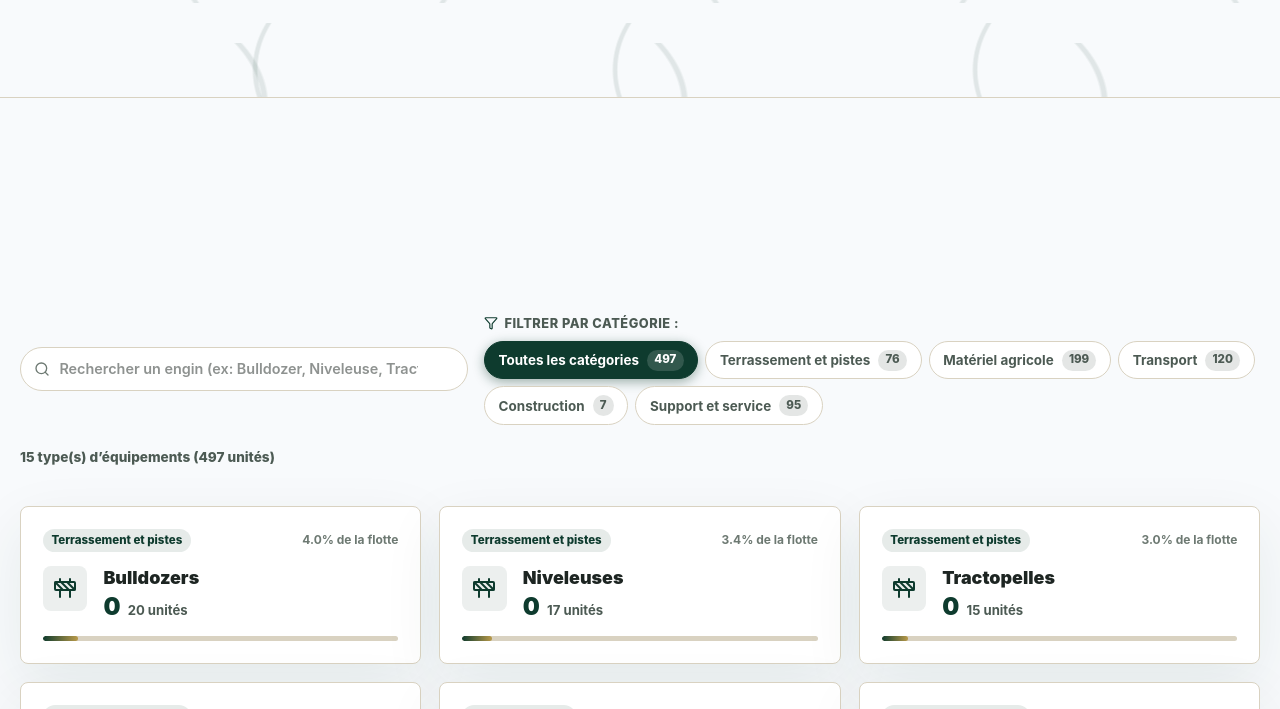
ResourcesPage › filters equipment by category tab
(page scrolled)
Expected: the heading "Bulldozers" is shown, left=103, top=567, right=199, bottom=588
# Click on Agricultural category tab
Click the tab "Matériel agricole 199" at (1020, 360), box left=929, top=341, right=1111, bottom=379
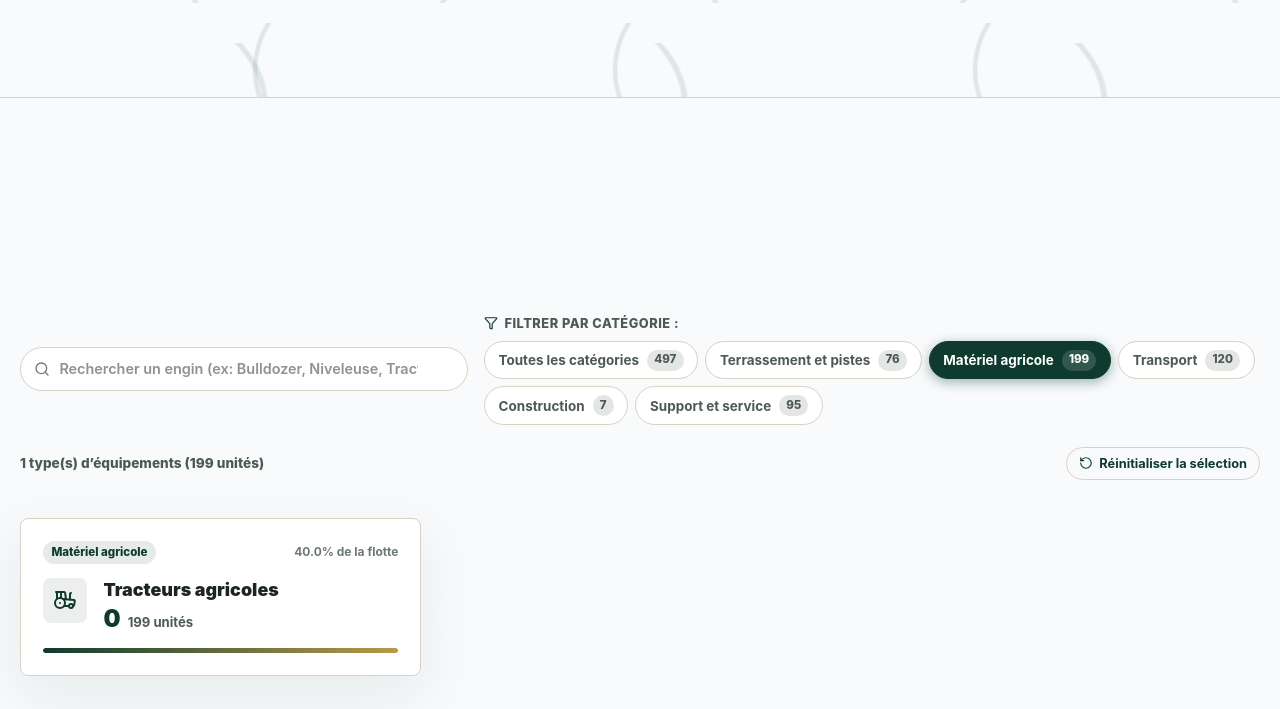
Expected: the heading "Tracteurs agricoles" is shown, left=103, top=579, right=279, bottom=600
Result: the heading "Bulldozers" is gone
Result: the heading "Niveleuses" is gone
# Click on Earthworks tab
Click the tab "Terrassement et pistes 76" at (813, 360), box left=705, top=341, right=922, bottom=379
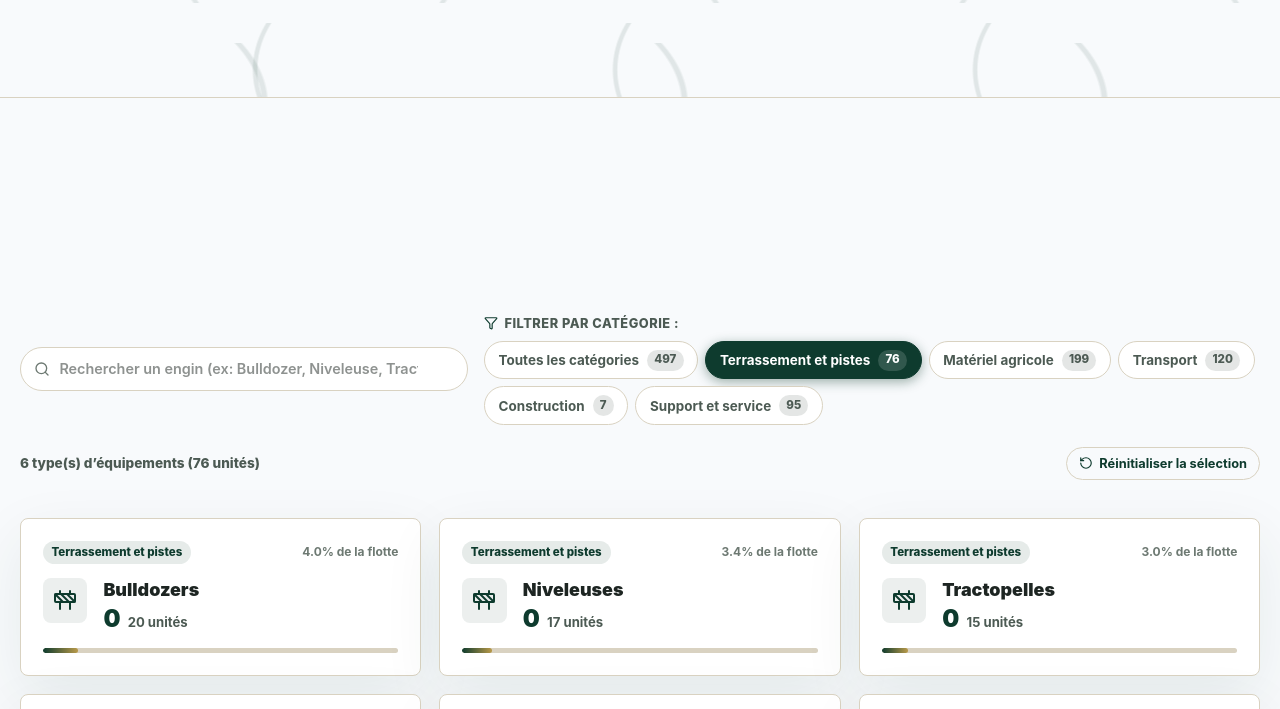
Result: the heading "Bulldozers" is shown at left=103, top=579, right=199, bottom=600
Result: the heading "Niveleuses" is shown at left=523, top=579, right=624, bottom=600
Result: the heading "Tracteurs agricoles" is gone
